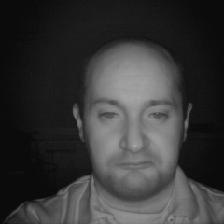normal: (75, 29, 199, 204)
